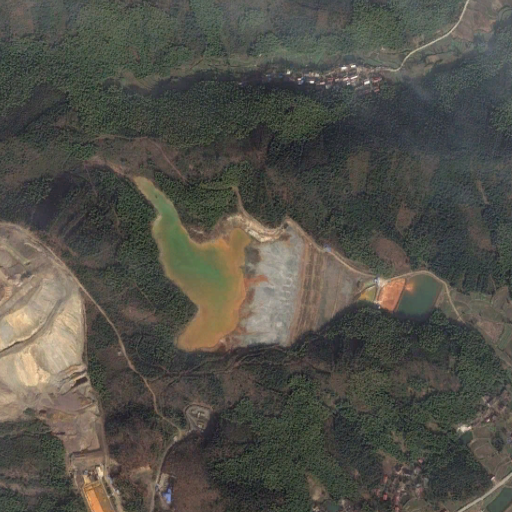tp: (137, 176, 377, 356)
